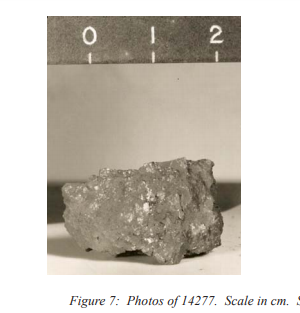Breccia: (55, 150, 230, 269)
